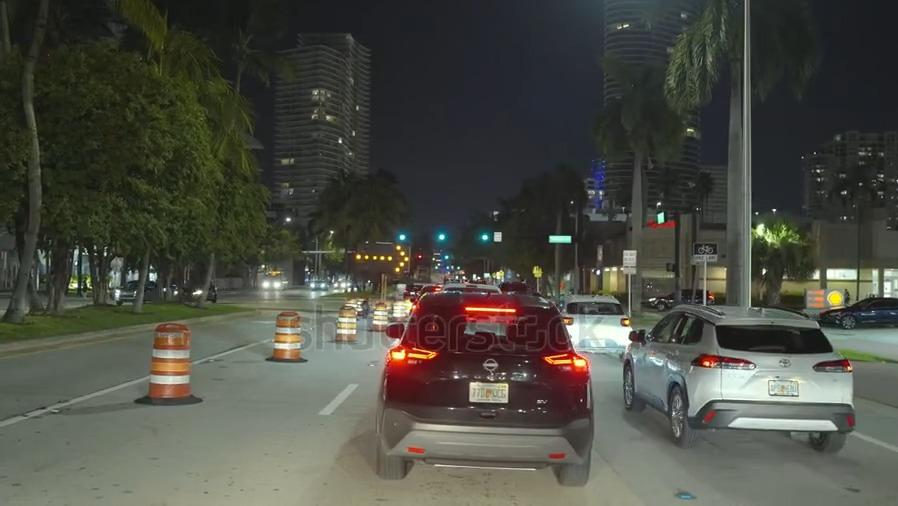arrow traffic sign: (354, 240, 411, 276)
bus: (257, 268, 291, 293)
car: (380, 291, 588, 478), (625, 303, 848, 445), (556, 289, 629, 353), (812, 291, 898, 329), (641, 286, 715, 309), (112, 277, 157, 303), (171, 279, 218, 302), (307, 276, 327, 293)
cone: (146, 319, 191, 398), (273, 308, 301, 359), (333, 303, 357, 342), (369, 299, 386, 332), (388, 296, 403, 325)
traffic light: (429, 225, 455, 249), (471, 226, 495, 248), (393, 225, 412, 248)
wheel: (661, 379, 692, 447), (617, 359, 635, 407)
